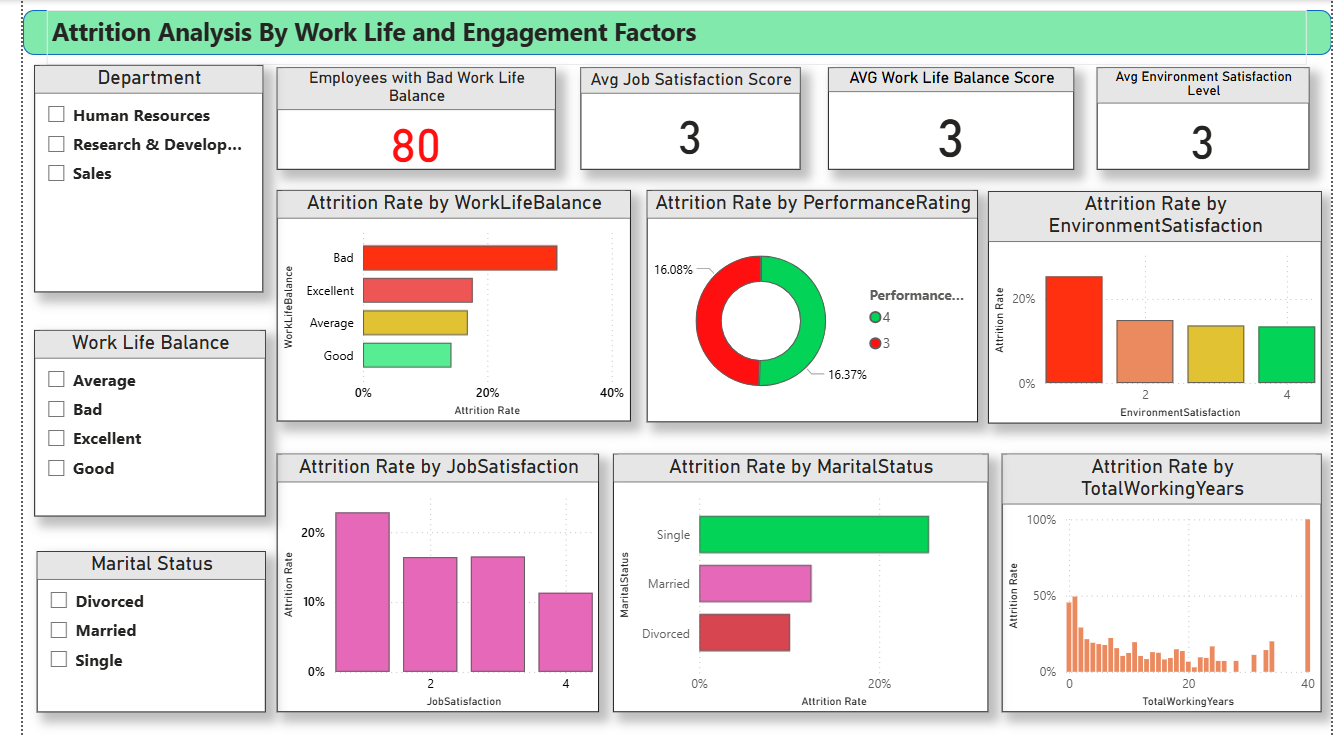

This screenshot's page, from the dashboard's own definition file:
{"tool":"powerbi","page":{"name":"Work-life and Engagement Factors","canvas":[1280,720],"ordinal":3},"visuals":[{"type":"barChart","title":"Attrition Rate by WorkLifeBalance","fields":{"Y":["HR-Employee-Attrition.Attrition Rate"],"Category":["HR-Employee-Attrition.WorkLifeBalance_Label"]},"box":[248.2,185.9,346.1,226.2],"z":0},{"type":"columnChart","fields":{"Y":["HR-Employee-Attrition.Attrition Rate"],"Category":["HR-Employee-Attrition.JobSatisfaction"]},"box":[248.2,443.9,315.5,253.1],"z":1000},{"type":"donutChart","fields":{"Category":["HR-Employee-Attrition.PerformanceRating"],"Y":["HR-Employee-Attrition.Attrition Rate"]},"box":[610.2,185.9,324.1,227.4],"z":2000},{"type":"columnChart","fields":{"Category":["HR-Employee-Attrition.EnvironmentSatisfaction"],"Y":["HR-Employee-Attrition.Attrition Rate"]},"box":[944,187.1,326.5,227.4],"z":3000},{"type":"lineStackedColumnComboChart","fields":{"Y":["HR-Employee-Attrition.Attrition Rate"],"Category":["HR-Employee-Attrition.TotalWorkingYears"]},"box":[957.5,443.9,313,253.1],"z":4000},{"type":"barChart","fields":{"Y":["HR-Employee-Attrition.Attrition Rate"],"Category":["HR-Employee-Attrition.MaritalStatus","HR-Employee-Attrition.Age Group"]},"box":[577.2,443.9,366.8,253.1],"z":5000},{"type":"card","title":"Employees with Bad Work Life Balance","fields":{"Values":["HR-Employee-Attrition.Employees with Bad WLB"]},"box":[248.2,66,272.7,100.3],"z":6000},{"type":"card","title":"Avg Job Satisfaction Score","fields":{"Values":["HR-Employee-Attrition.Avg job satisfaction score"]},"box":[545.4,66,215.2,100.3],"z":7000},{"type":"card","title":"AVG Work Life Balance Score","fields":{"Values":["HR-Employee-Attrition.Avg work life balance score"]},"box":[787.5,66,240.9,100.3],"z":8000},{"type":"card","title":"Avg Environment Satisfaction Level","fields":{"Values":["HR-Employee-Attrition.Avg Environment satisfaction score"]},"box":[1050.4,66,207.9,100.3],"z":9000},{"type":"shape","box":[0,9.8,1280.3,44],"z":10000},{"type":"slicer","title":"Work Life Balance","fields":{"Values":["HR-Employee-Attrition.WorkLifeBalance_Label"]},"box":[11,322.8,226.2,182.2],"z":11000},{"type":"slicer","title":"Marital Status","fields":{"Values":["HR-Employee-Attrition.MaritalStatus"]},"box":[13.5,539.3,223.8,157.7],"z":12000},{"type":"textbox","box":[23.3,9.6,1232.3,53.5],"z":13000},{"type":"slicer","title":"Department","fields":{"Values":["HR-Employee-Attrition.Department"]},"box":[11,63.6,223.8,222.6],"z":14000}]}

Visuals, with their boxes in screenshot pixels (x1, y1, x2, y2), scaled from the page's 1280x720 canvas onto the 1333x735 screenshot:
"Attrition Rate by WorkLifeBalance" barChart: x1=258 y1=190 x2=619 y2=421
columnChart - HR-Employee-Attrition.Attrition Rate x HR-Employee-Attrition.JobSatisfaction: x1=258 y1=453 x2=587 y2=712
donutChart - HR-Employee-Attrition.PerformanceRating x HR-Employee-Attrition.Attrition Rate: x1=635 y1=190 x2=973 y2=422
columnChart - HR-Employee-Attrition.EnvironmentSatisfaction x HR-Employee-Attrition.Attrition Rate: x1=983 y1=191 x2=1323 y2=423
lineStackedColumnComboChart - HR-Employee-Attrition.Attrition Rate x HR-Employee-Attrition.TotalWorkingYears: x1=997 y1=453 x2=1323 y2=712
barChart - HR-Employee-Attrition.Attrition Rate x HR-Employee-Attrition.MaritalStatus: x1=601 y1=453 x2=983 y2=712
"Employees with Bad Work Life Balance" card: x1=258 y1=67 x2=542 y2=170
"Avg Job Satisfaction Score" card: x1=568 y1=67 x2=792 y2=170
"AVG Work Life Balance Score" card: x1=820 y1=67 x2=1071 y2=170
"Avg Environment Satisfaction Level" card: x1=1094 y1=67 x2=1310 y2=170
shape: x1=0 y1=10 x2=1332 y2=55
"Work Life Balance" slicer: x1=11 y1=330 x2=247 y2=516
"Marital Status" slicer: x1=14 y1=551 x2=247 y2=712
textbox: x1=24 y1=10 x2=1308 y2=64
"Department" slicer: x1=11 y1=65 x2=245 y2=292
